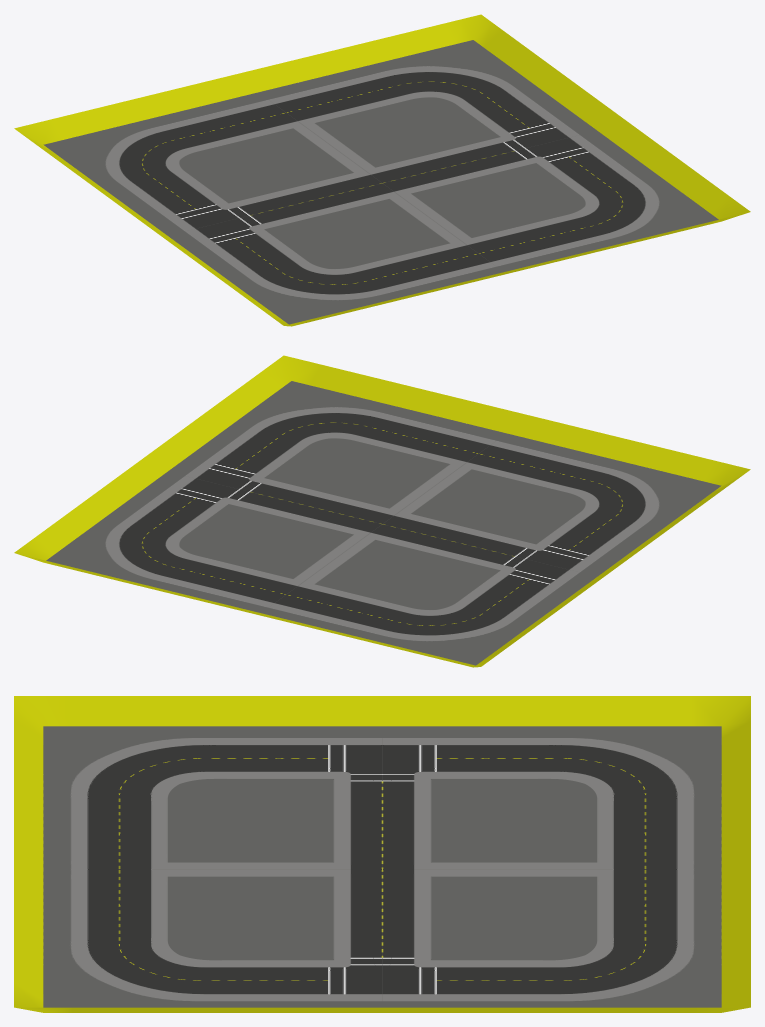
File: EnvironmentCubeTown.fbx
The picture shows the model from 3 angles, top to bottom: view 1: azimuth 30°, elevation 25°; view 2: azimuth 150°, elevation 25°; view 3: azimuth 270°, elevation 25°; orthographic projection. The views are drawn at different scales.
Visible parts, largest first — view 1: Ground, Road, Hazard; view 2: Ground, Road, Hazard; view 3: Ground, Road, Hazard.
Part boxes in pixels (left/top/right/bottom): Ground: left=43, top=40, right=718, bottom=324; Road: left=119, top=72, right=645, bottom=294; Hazard: left=14, top=14, right=750, bottom=326; Ground: left=46, top=381, right=721, bottom=665; Road: left=119, top=413, right=645, bottom=635; Hazard: left=14, top=355, right=750, bottom=667; Ground: left=43, top=726, right=721, bottom=1007; Road: left=86, top=744, right=678, bottom=994; Hazard: left=14, top=696, right=750, bottom=1012.
Bounding box in the file's own units: 150 × 4 × 150.
2 materials, 1 textured.
